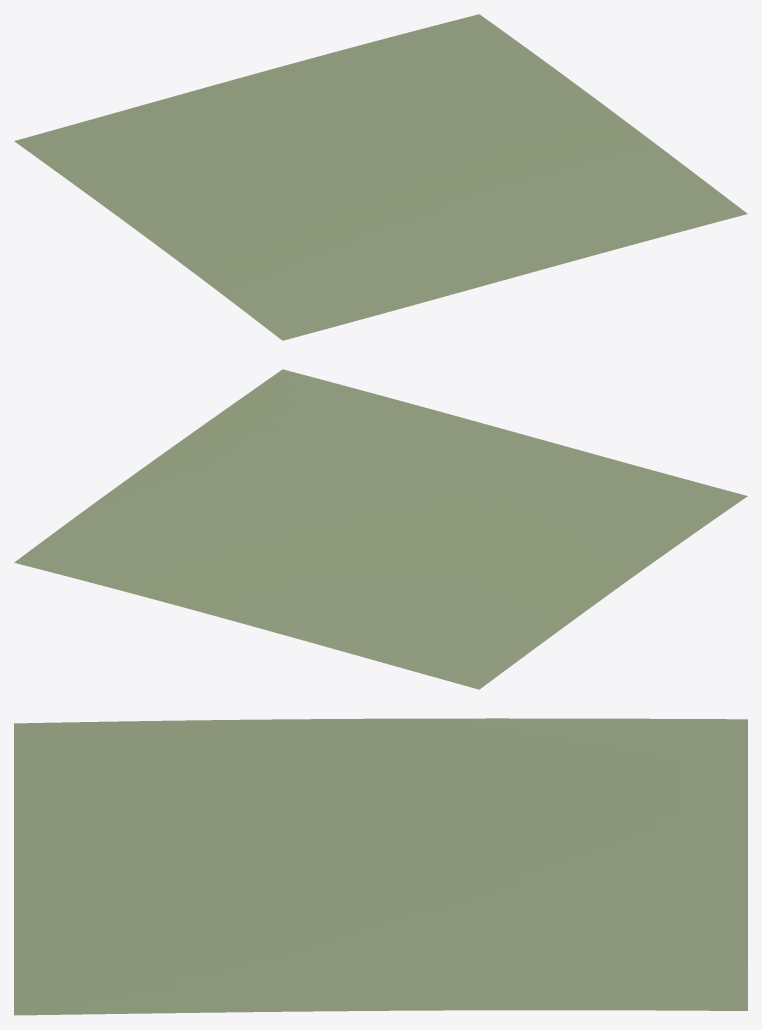
The model's file is expanse-9-2.glb.
3 views of the same model, one above another, from view 1: azimuth 30°, elevation 25°; view 2: azimuth 150°, elevation 25°; view 3: azimuth 270°, elevation 25° (orthographic). The views are drawn at different scales.
Parts seen in each view (by area): view 1: expanse-9-2; view 2: expanse-9-2; view 3: expanse-9-2.
Part boxes in pixels (x1=…): expanse-9-2: x1=14, y1=14, x2=747, y2=340; expanse-9-2: x1=14, y1=369, x2=747, y2=689; expanse-9-2: x1=14, y1=718, x2=747, y2=1015.
Size of the model in its own units: 256 by 9.01 by 256.
